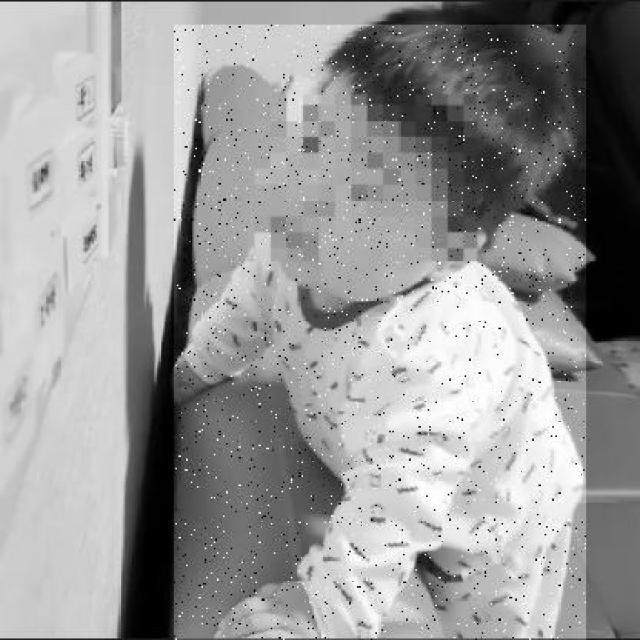child: (173, 24, 586, 640)
